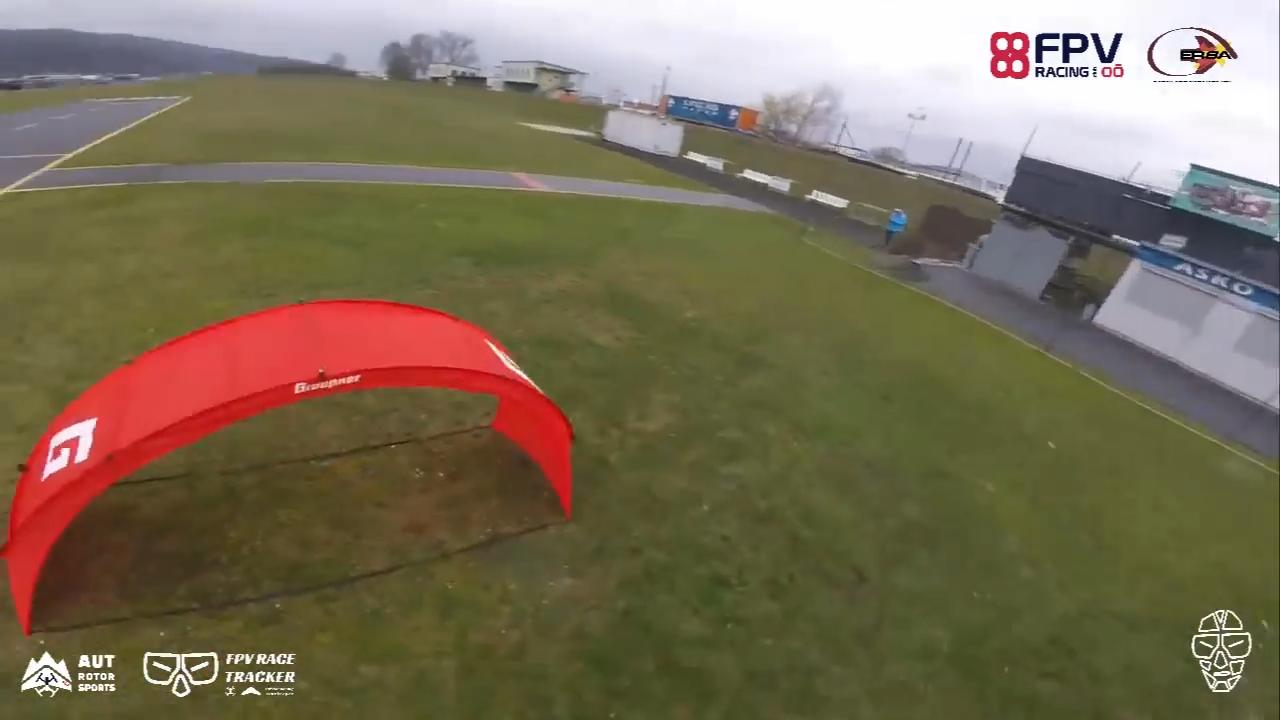gate: (2, 302, 577, 639)
